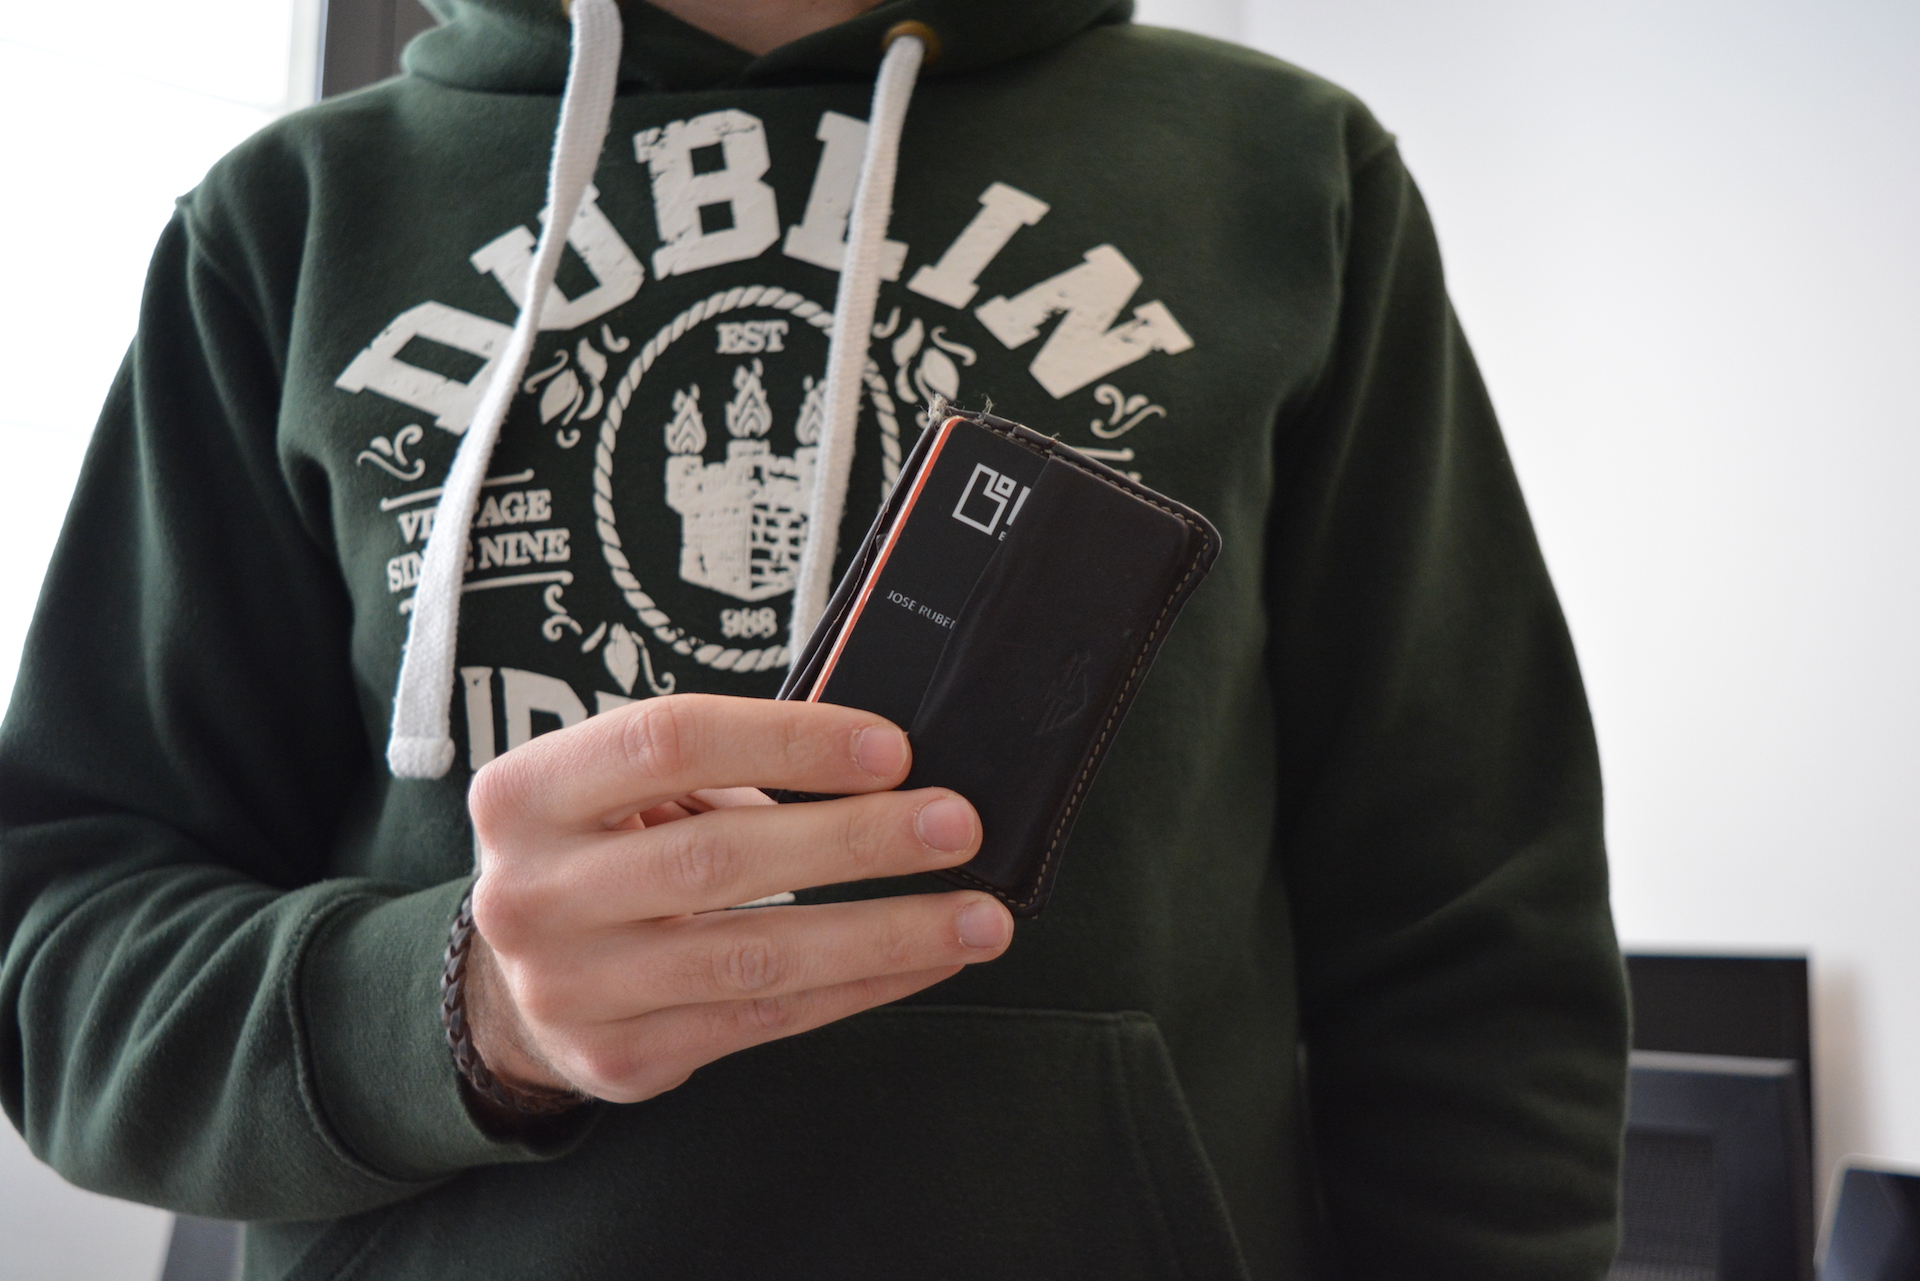monedero: (748, 400, 1228, 924)
